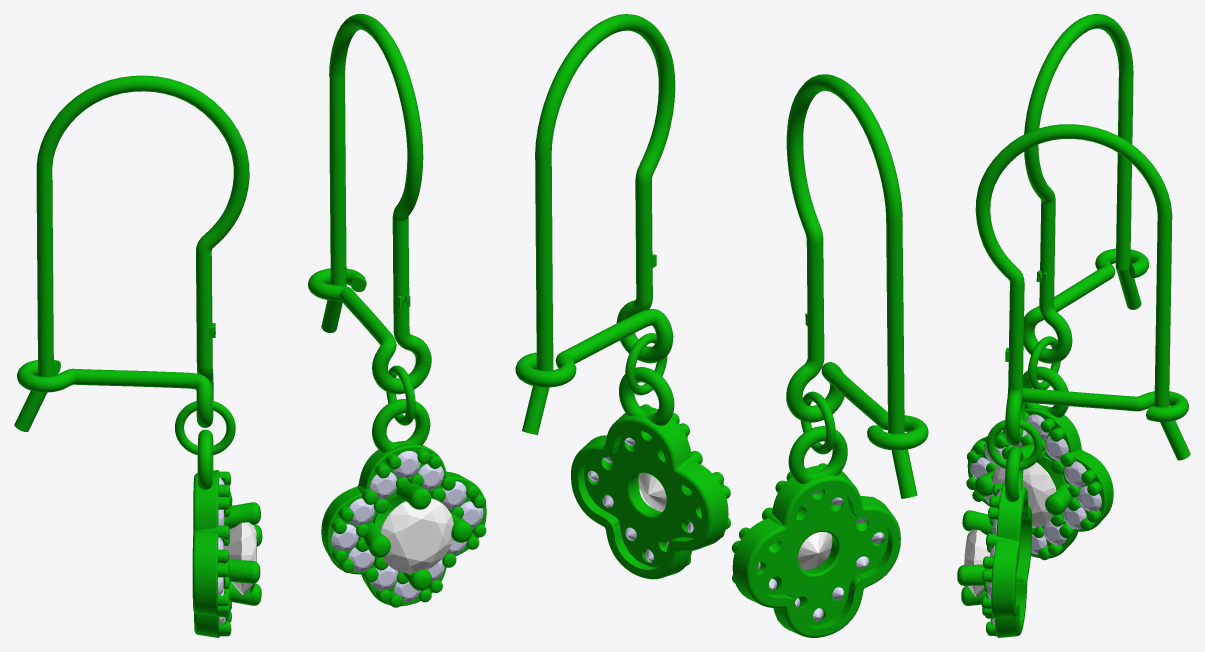
3 renders of one model, left to right at view 1: azimuth 30°, elevation 25°; view 2: azimuth 150°, elevation 25°; view 3: azimuth 270°, elevation 25°, orthographic. The views are drawn at different scales.
Parts seen in each view (by area): view 1: EAR-2507653_3D.3dm; view 2: EAR-2507653_3D.3dm; view 3: EAR-2507653_3D.3dm.
Boxes of the visible parts, x1,y1,x2,y2 form: EAR-2507653_3D.3dm: [14, 14, 486, 637]; EAR-2507653_3D.3dm: [515, 14, 928, 637]; EAR-2507653_3D.3dm: [957, 14, 1190, 637].
Size of the model in its own units: 2.28 by 3.04 by 1.25.
